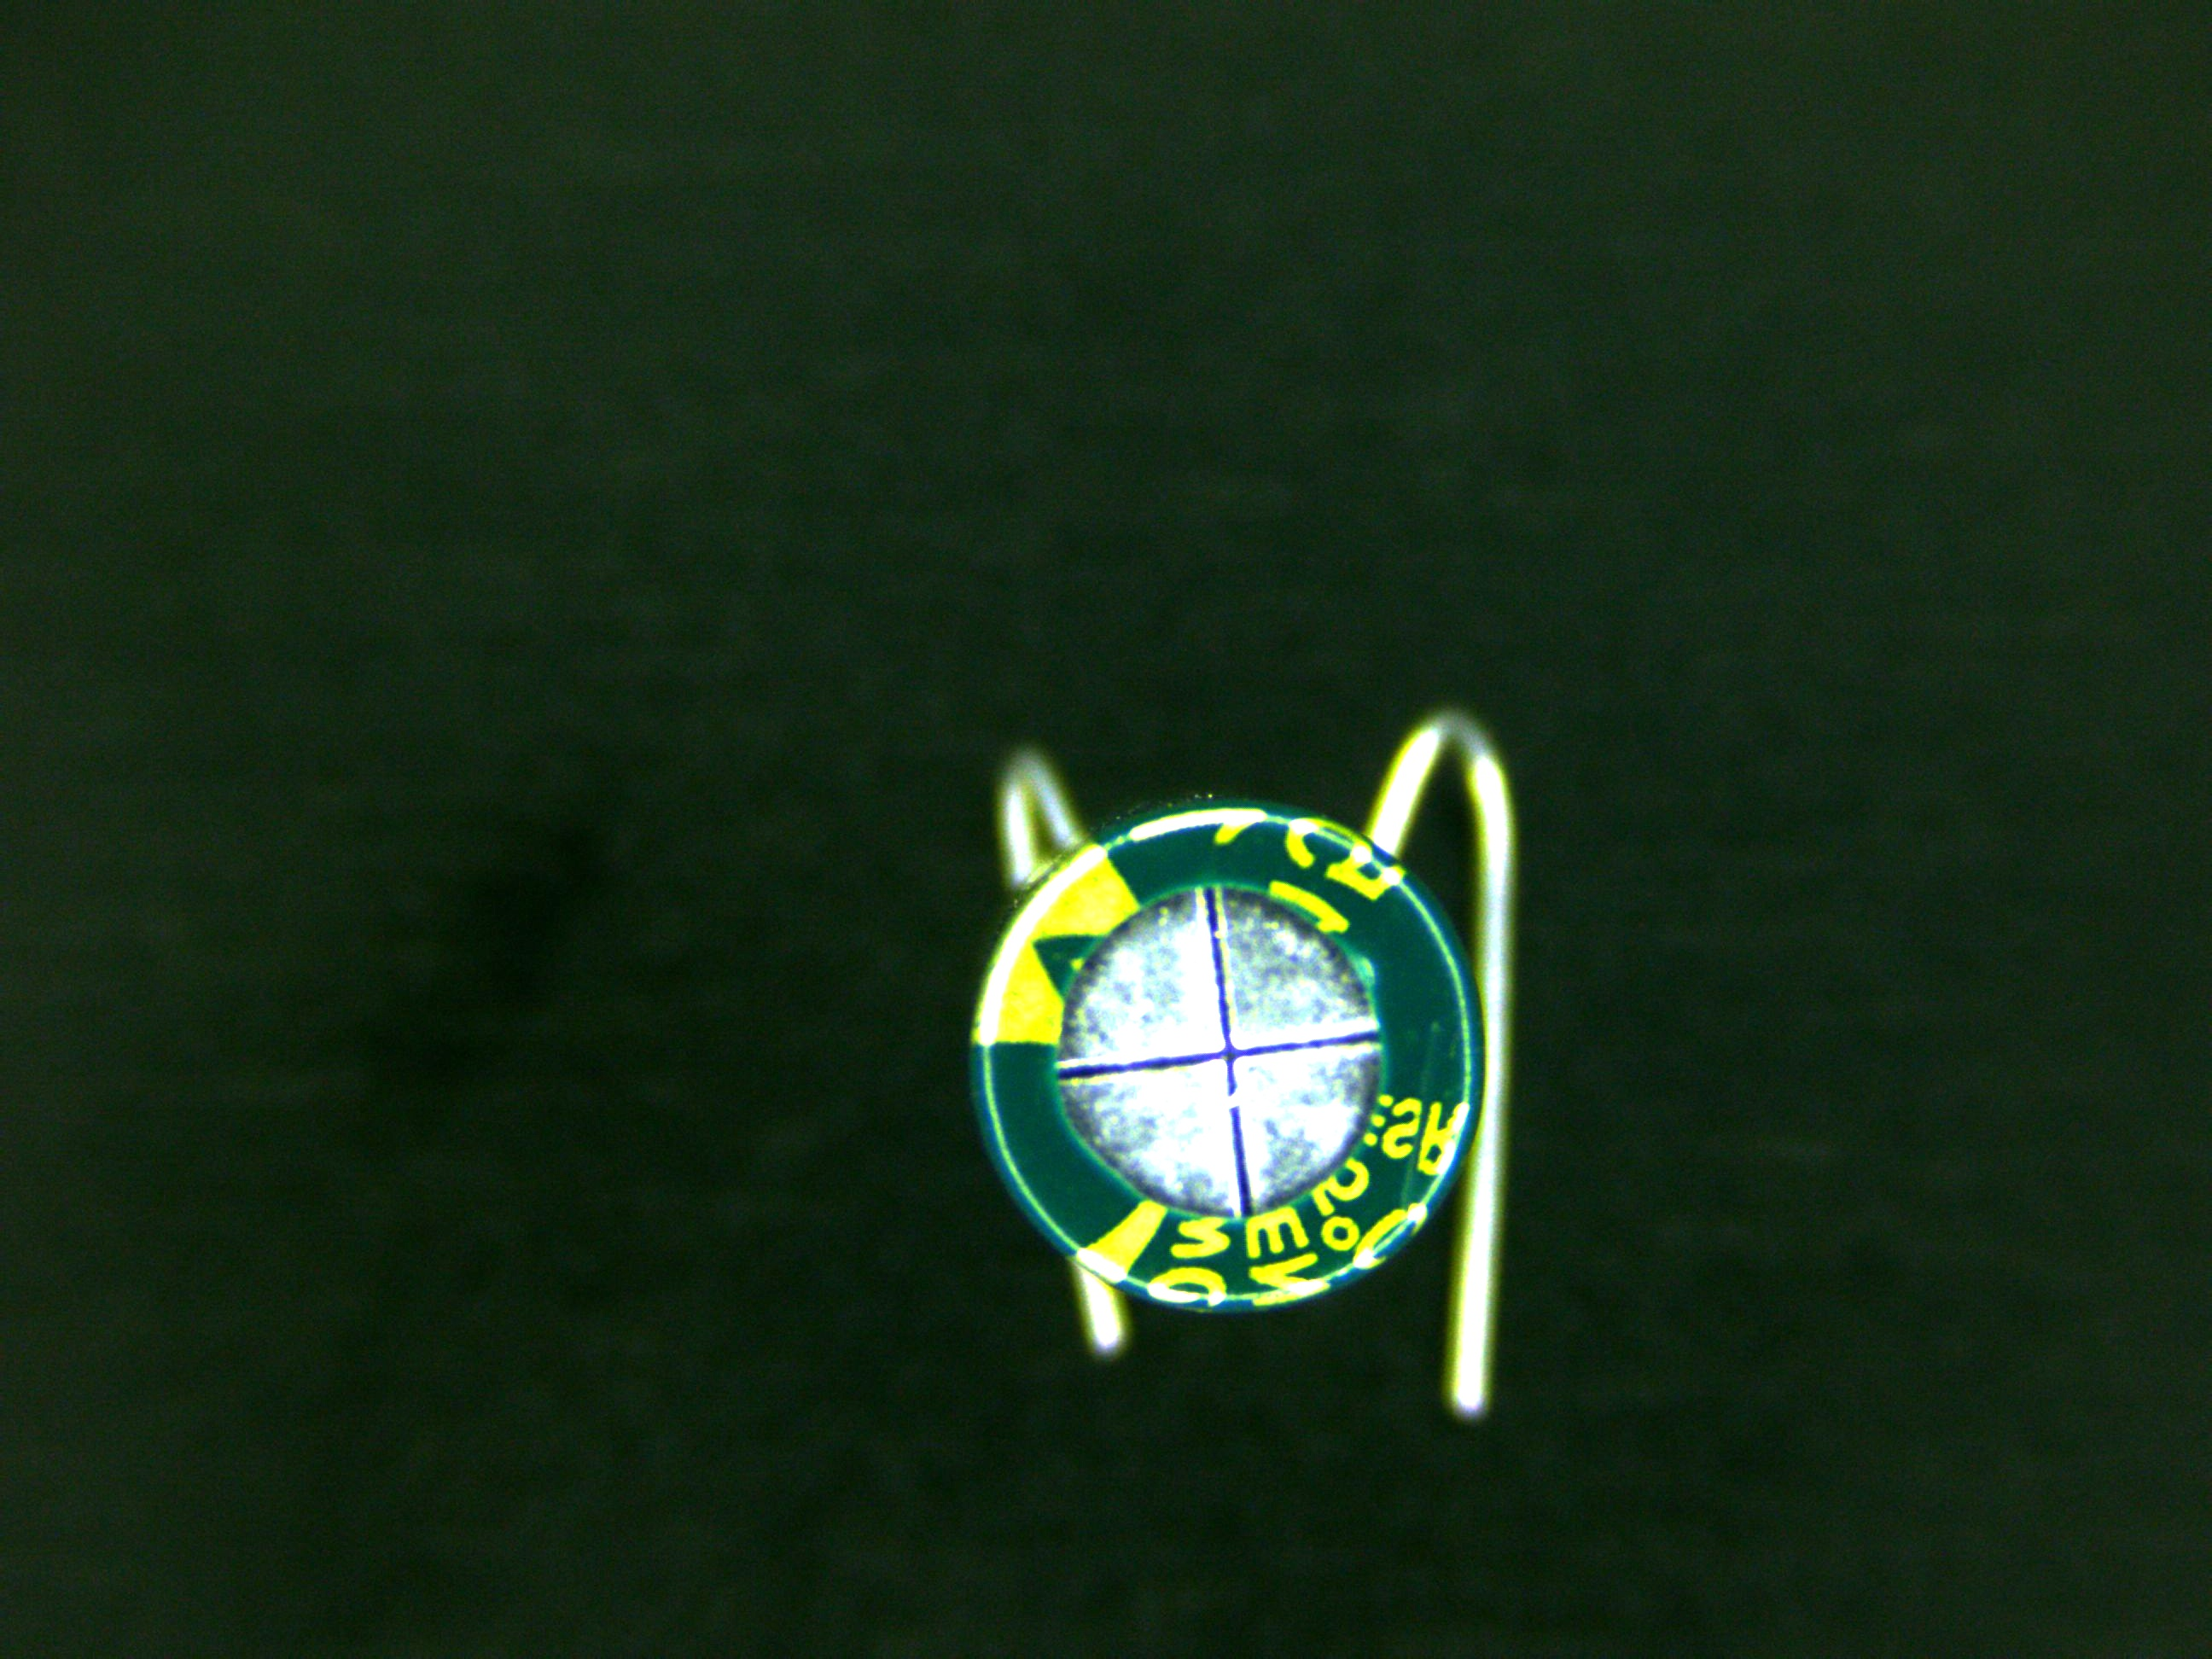c1: (977, 800, 1486, 1316)
